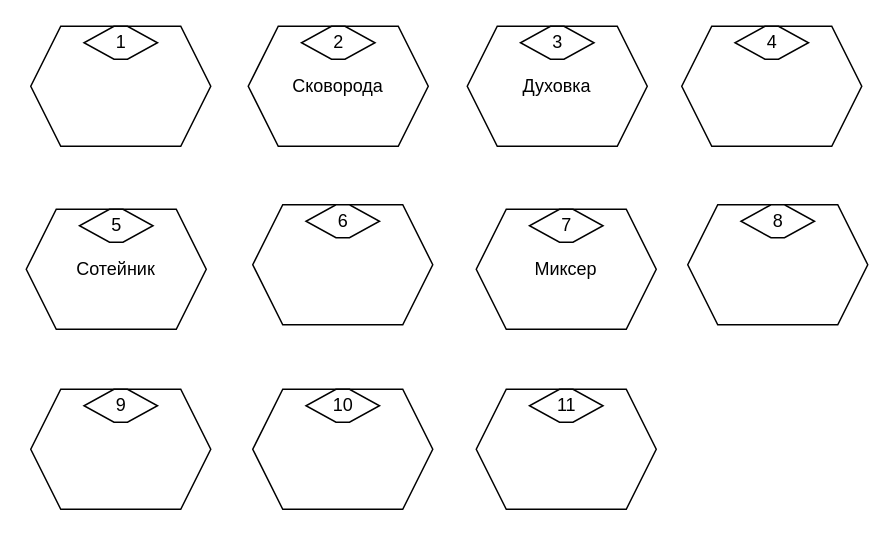
Some shapes in this 894 by 536 pixel diagram are drawn without their labels. Each missing label, with the box of its shape:
Гриль: (680, 25, 862, 146)
Емкость для маринования: (686, 203, 868, 325)
Кастрюля: (29, 25, 211, 146)
Миска: (29, 388, 211, 509)
Нож: (251, 203, 433, 325)
Половник: (475, 388, 656, 509)
Разделочная доска: (251, 388, 433, 509)
